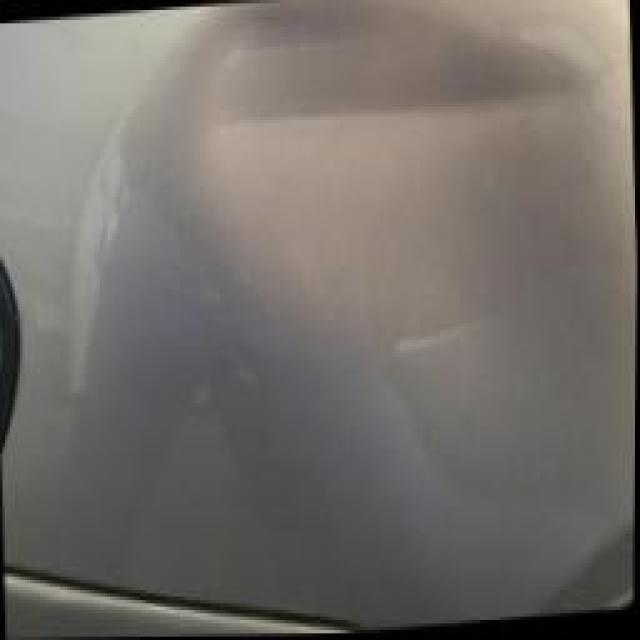Fender: (18, 0, 640, 590)
